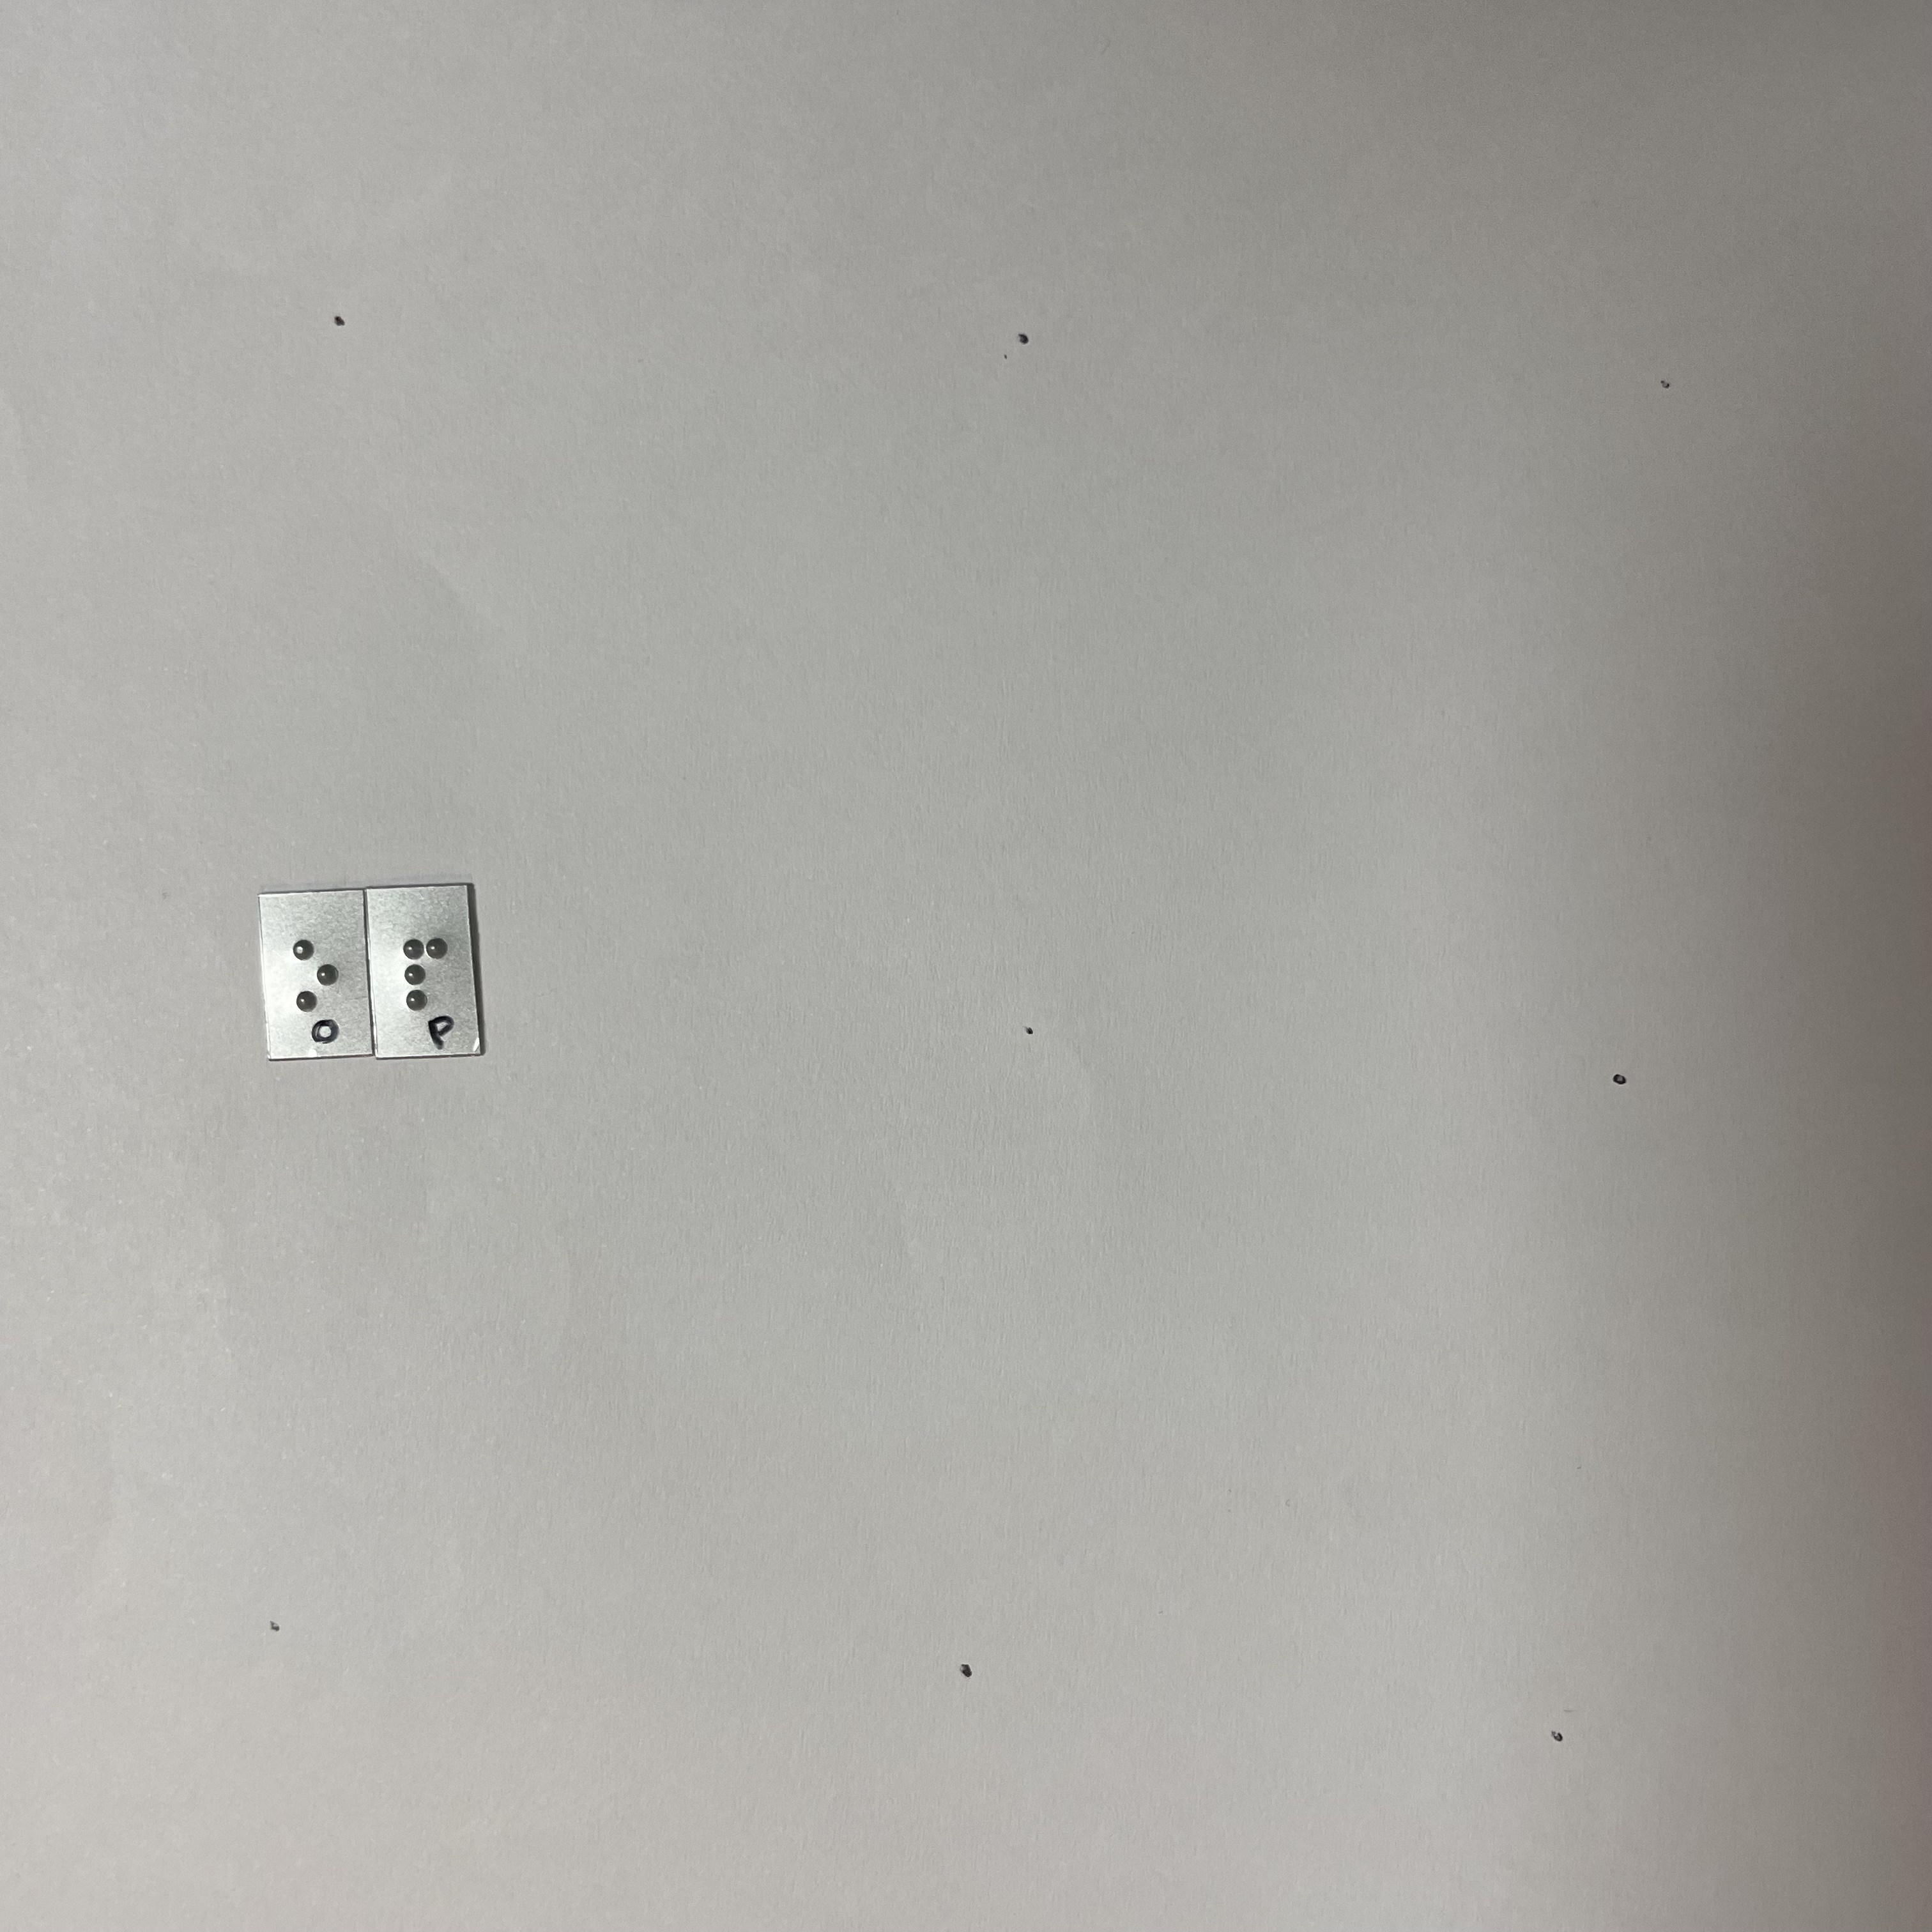o: (282, 935, 353, 1020)
p: (393, 928, 466, 1018)
